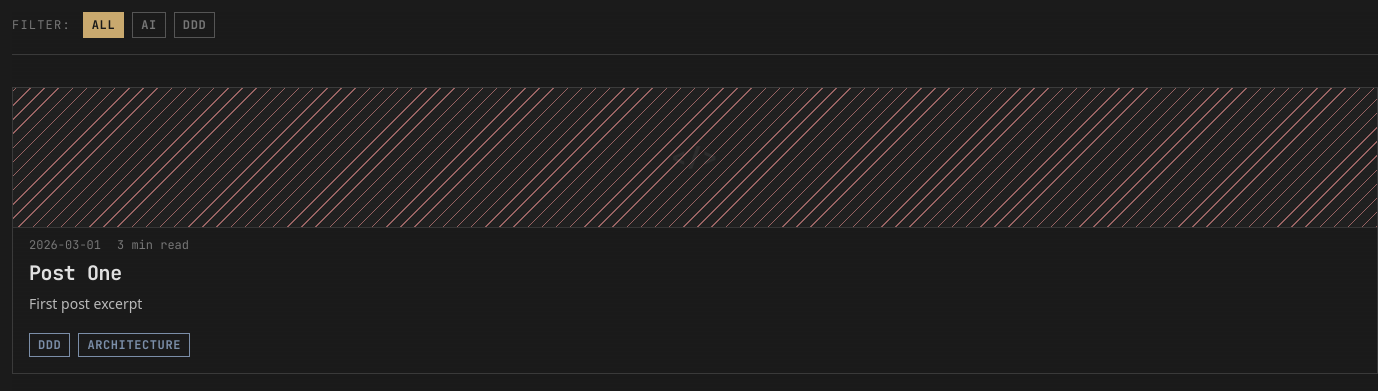
it: WritingsList › shows empty message when no writings match filter
Click the button "AI".
click(149, 25)  # box [132,12,166,38]
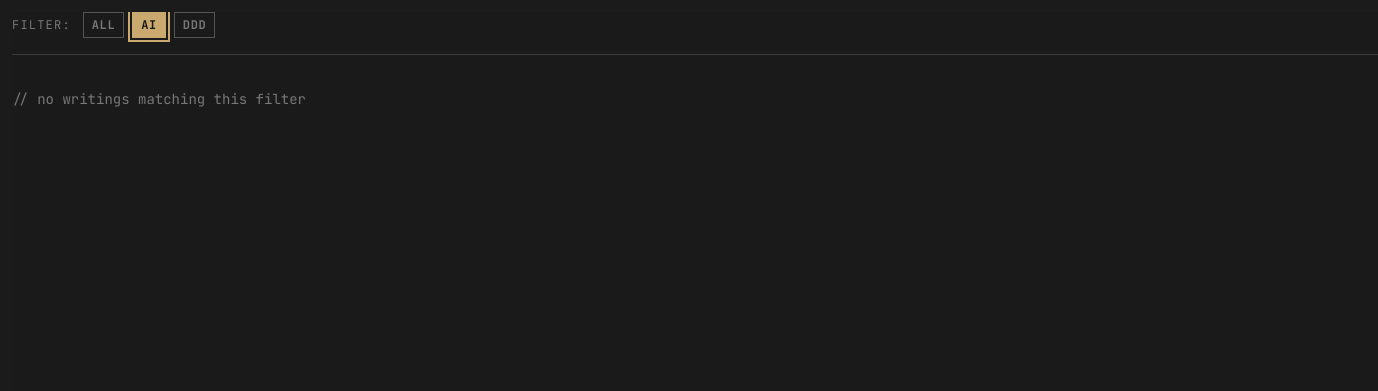
Check: the text "// no writings matching this filter" is shown, box [12,90,306,108]
